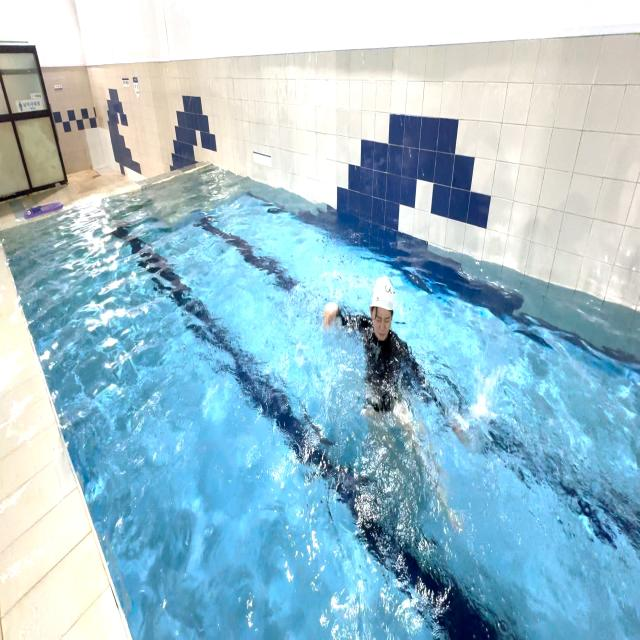Drowning: (320, 273, 470, 522)
